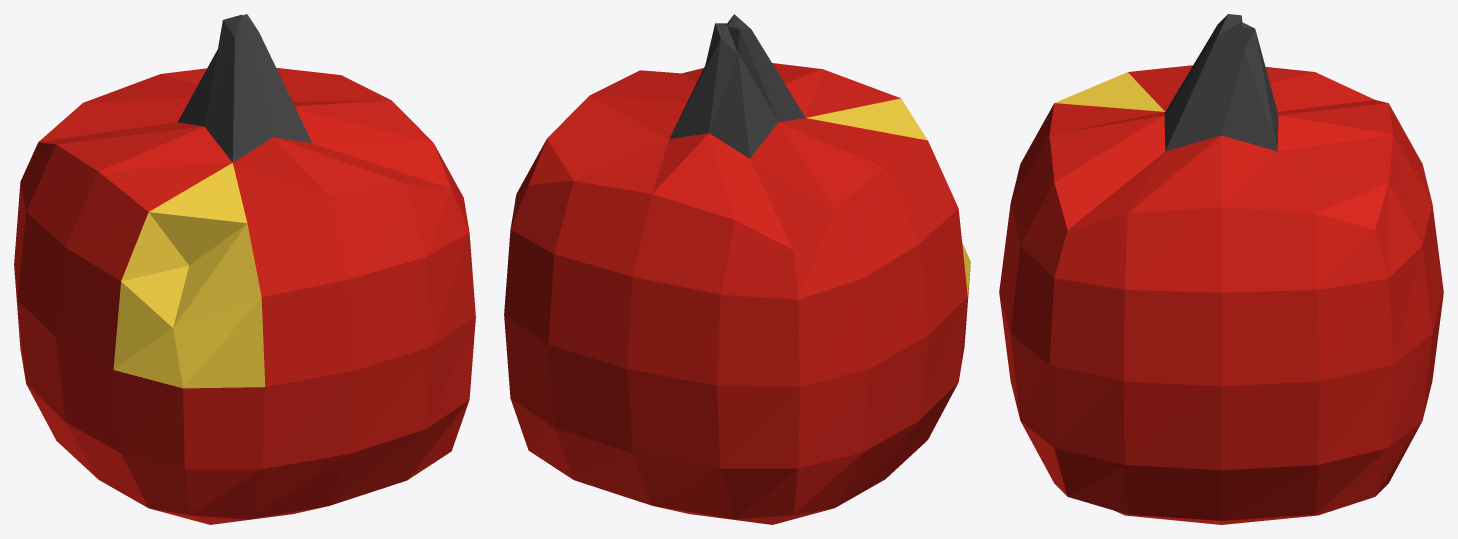
The model's file is manzana.obj.
The picture shows the model from 3 angles, left to right: view 1: azimuth 30°, elevation 25°; view 2: azimuth 150°, elevation 25°; view 3: azimuth 270°, elevation 25°; orthographic projection.
Visible parts, largest first — view 1: Cube_Cube.005; view 2: Cube_Cube.005; view 3: Cube_Cube.005.
Part boxes in pixels (x1,y1,x2,y2): Cube_Cube.005: (14,14,475,524); Cube_Cube.005: (504,14,970,524); Cube_Cube.005: (999,14,1443,524).
Bounding box in the file's own units: 1.79 × 2.13 × 1.79.
